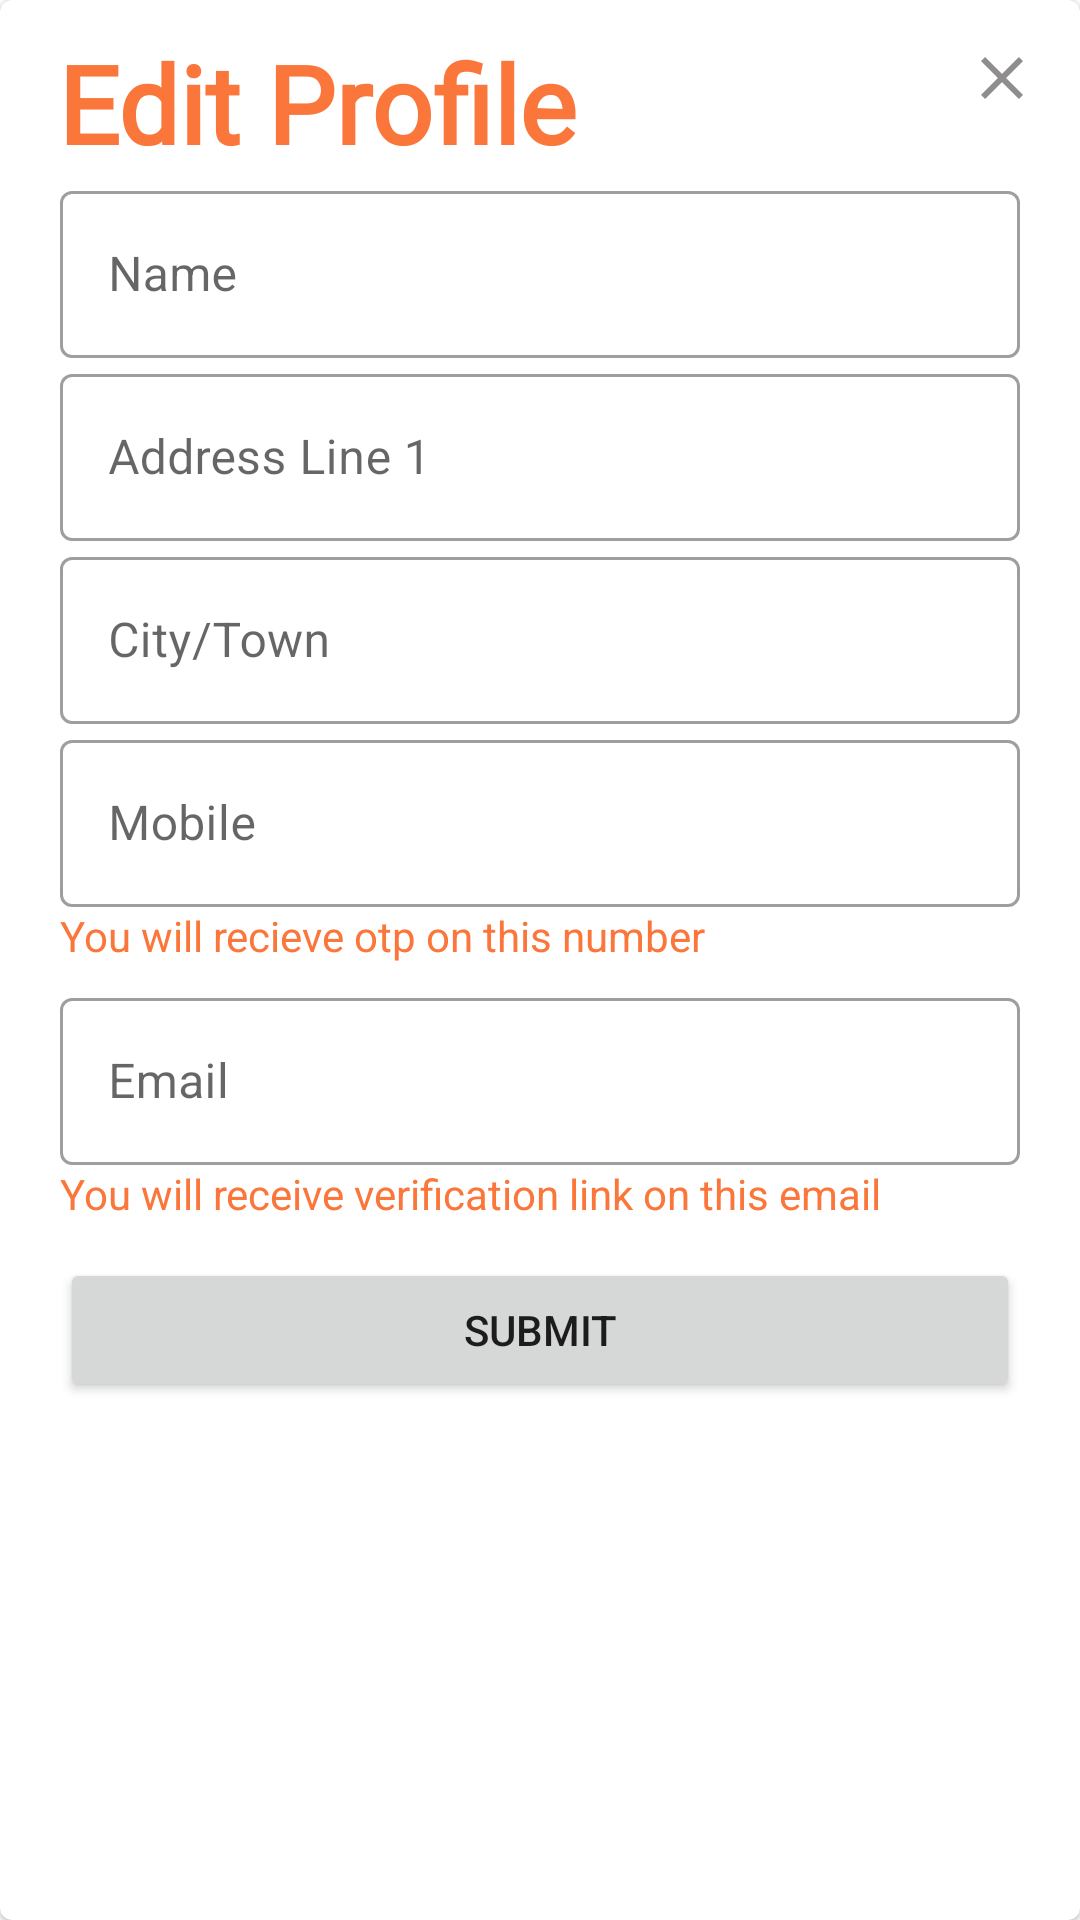

Named icons in this screenshot (1080px x 1920px) and their centers, point (x, y):
close: point (1002, 78)
